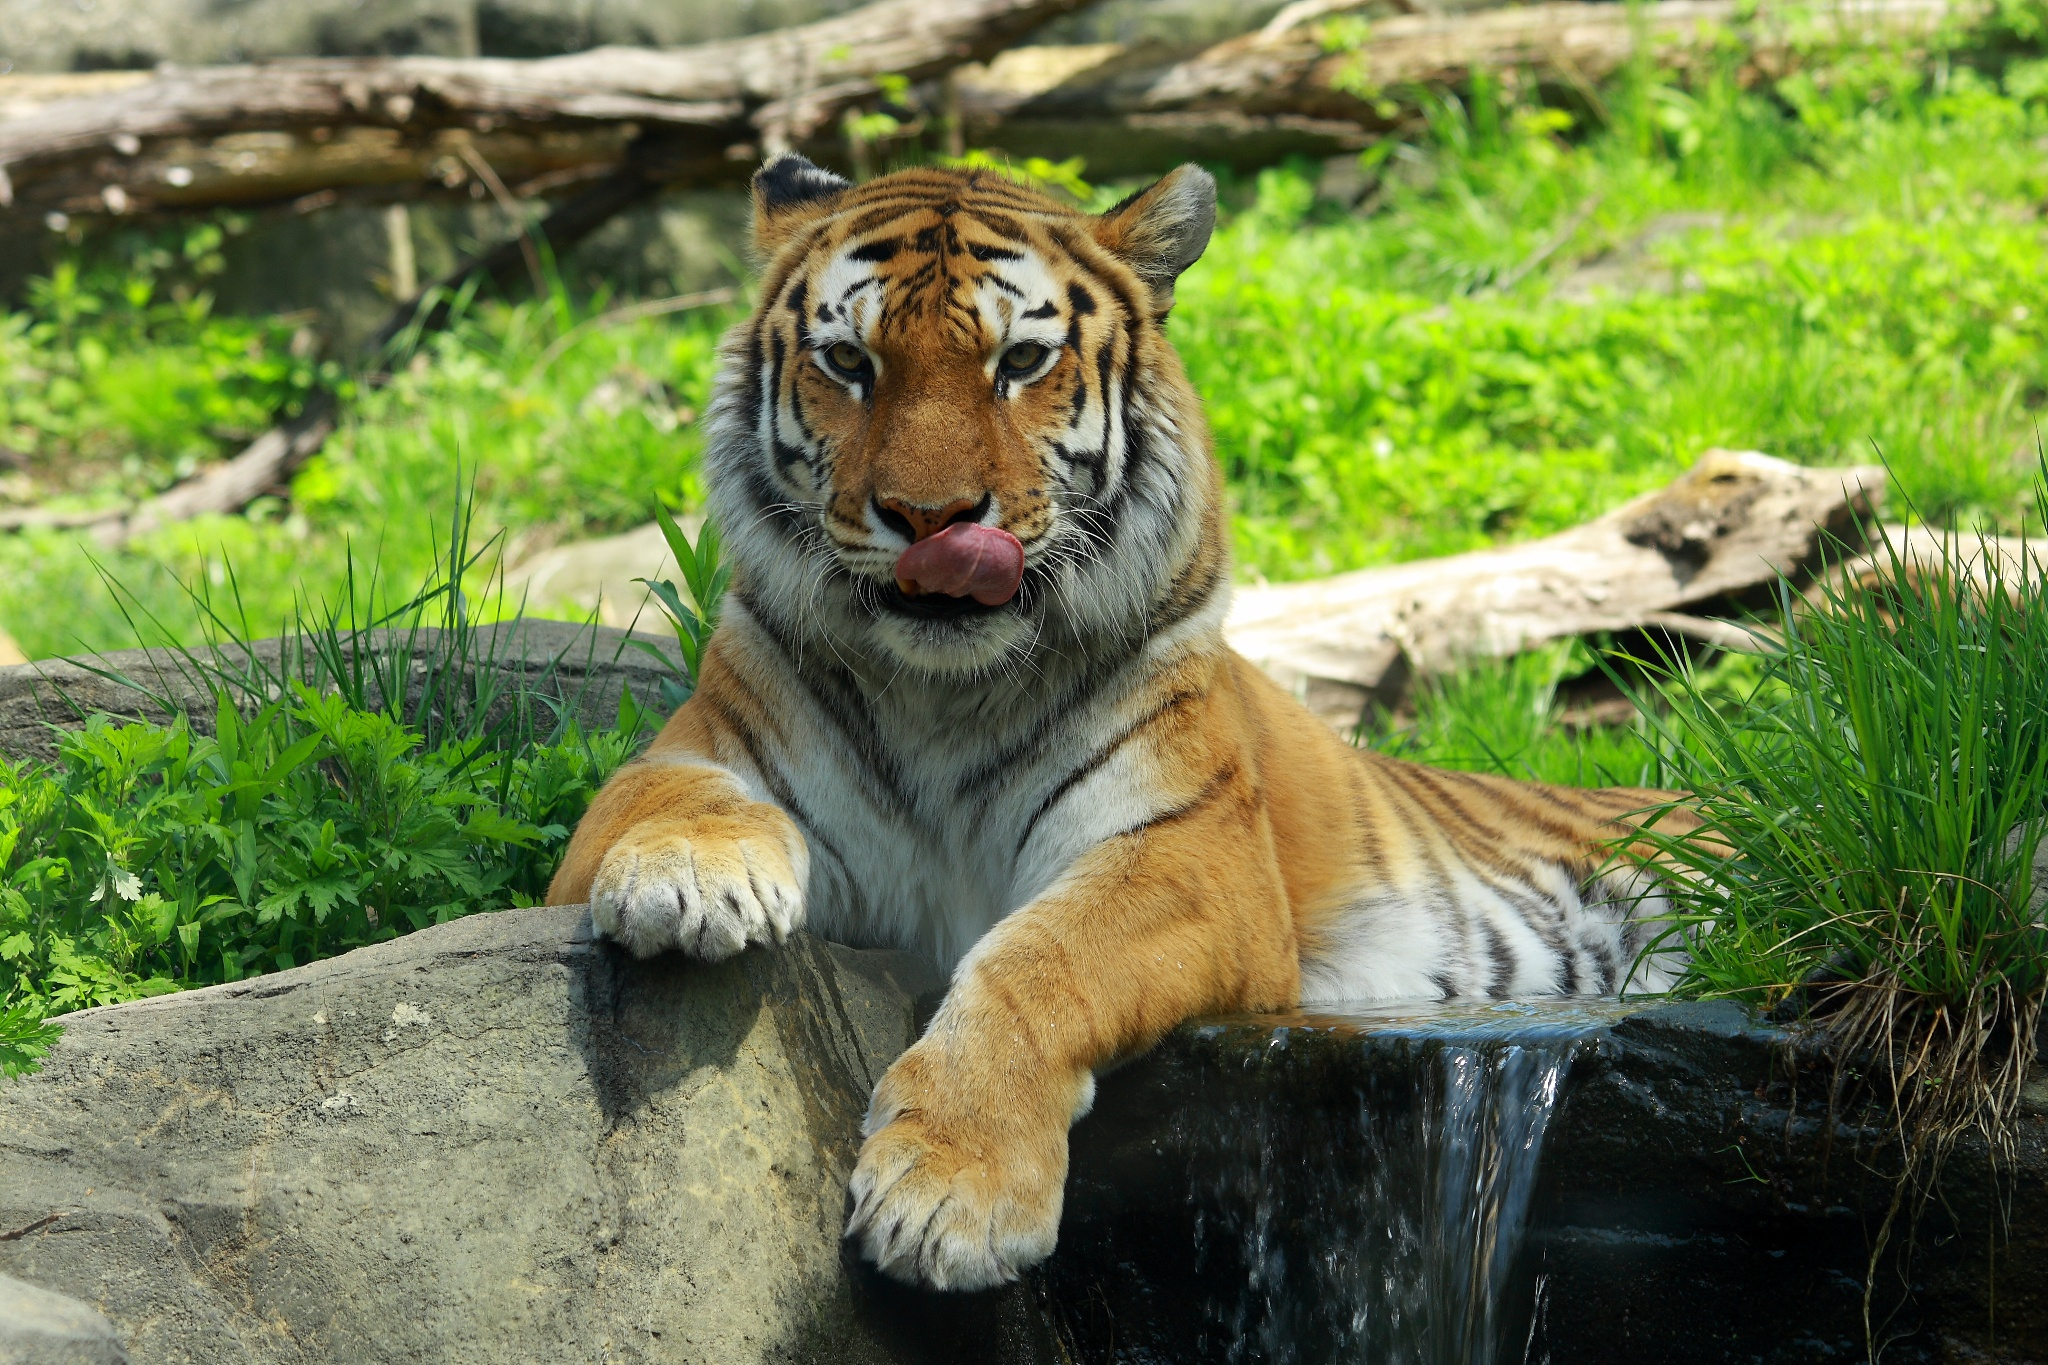tiger: (589, 139, 1739, 1236)
